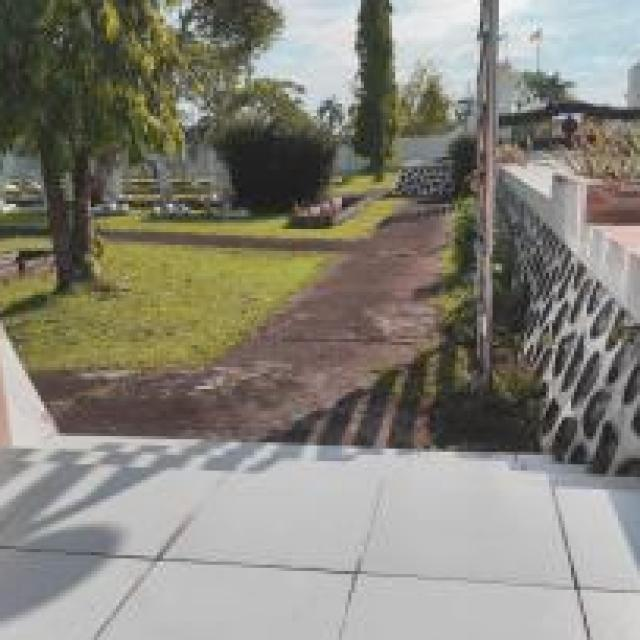downstair: (4, 378, 640, 575)
